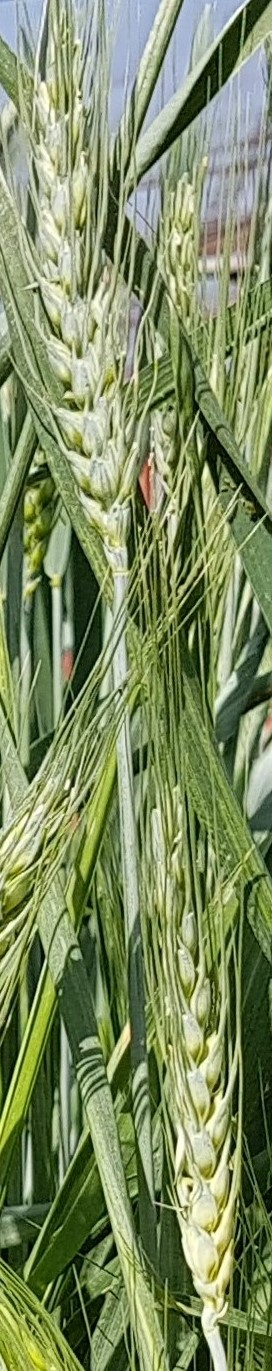Healthy Wheat: (123, 841, 259, 1294), (18, 82, 150, 548)
